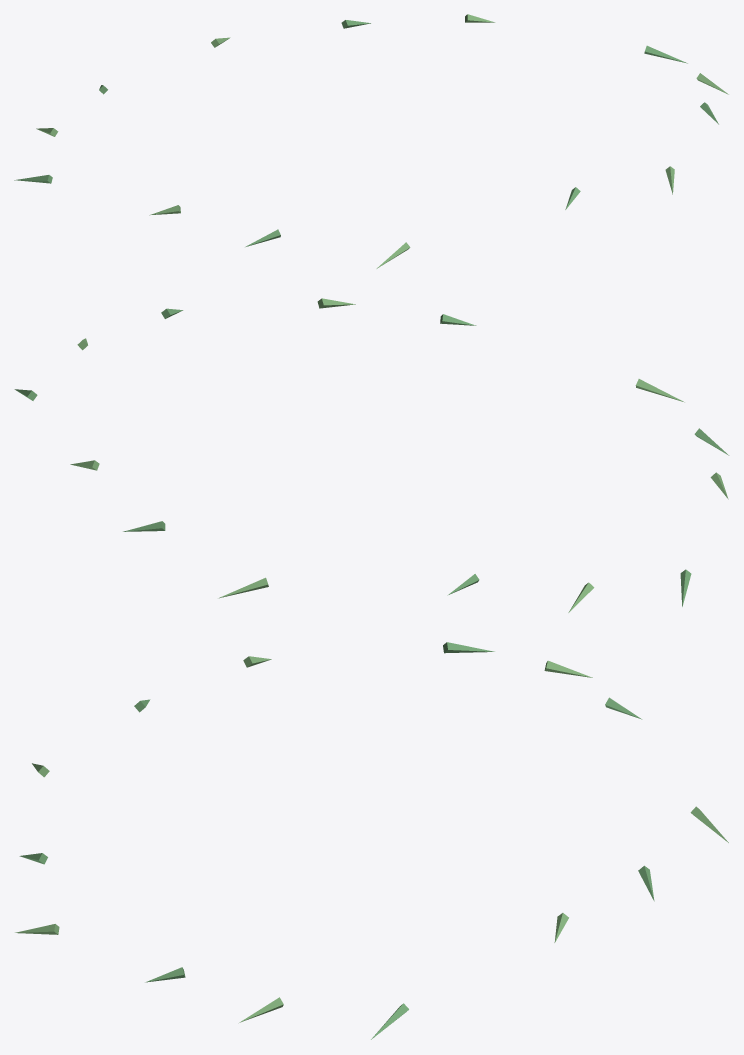
File: tall_grass.glb
3 views of the same model, one above another, from view 1: azimuth 30°, elevation 25°; view 2: azimuth 150°, elevation 25°; view 3: azimuth 270°, elevation 25° (orthographic). The views are drawn at different scales.
Parts seen in each view (by area): view 1: geometry_0; view 2: geometry_0; view 3: geometry_0.
Boxes of the visible parts, bbox=[...] form: geometry_0: bbox=[14, 14, 728, 268]; geometry_0: bbox=[14, 298, 729, 612]; geometry_0: bbox=[15, 642, 728, 1039].
Size of the model in its own units: 2.56 by 0.1162 by 1.99.
